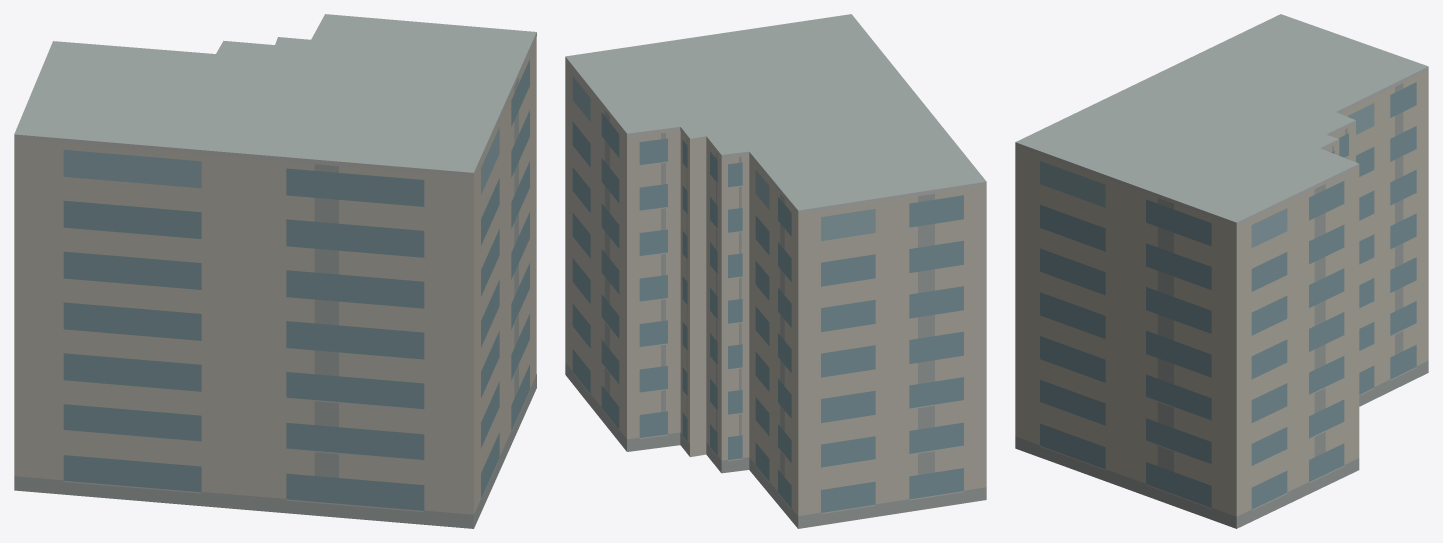
Rendered from survey-upis-32568486.glb.
3 views of the same model, side by side, from view 1: azimuth 30°, elevation 25°; view 2: azimuth 150°, elevation 25°; view 3: azimuth 270°, elevation 25° (orthographic). The views are drawn at different scales.
Visible parts, largest first — view 1: survey-upis-32568486.tmp; view 2: survey-upis-32568486.tmp; view 3: survey-upis-32568486.tmp.
Boxes of the visible parts, x1,y1,x2,y2 form: survey-upis-32568486.tmp: (14, 14, 536, 528); survey-upis-32568486.tmp: (565, 14, 986, 528); survey-upis-32568486.tmp: (1015, 14, 1428, 528).
Size of the model in its own units: 27.61 by 18.9 by 23.13.
